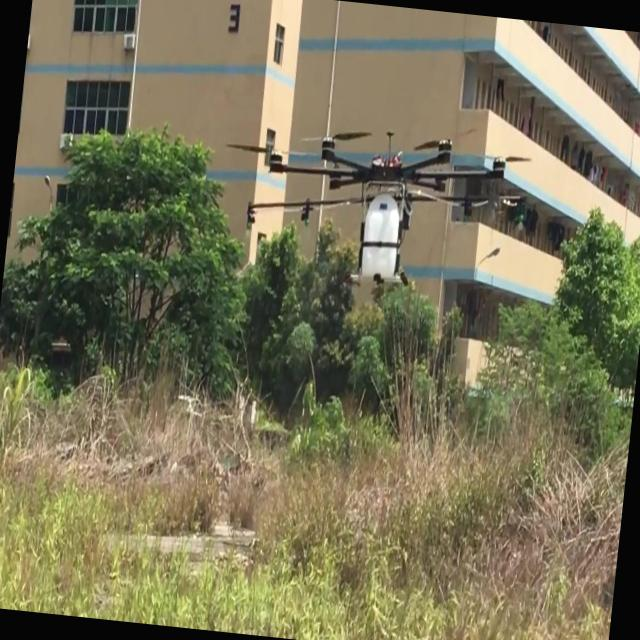drone: (218, 107, 536, 306)
